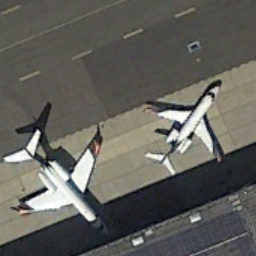Airplane: (1, 120, 121, 245), (139, 74, 230, 182)
